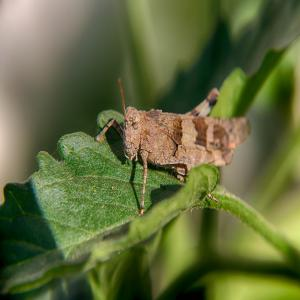locust: (114, 73, 244, 189)
